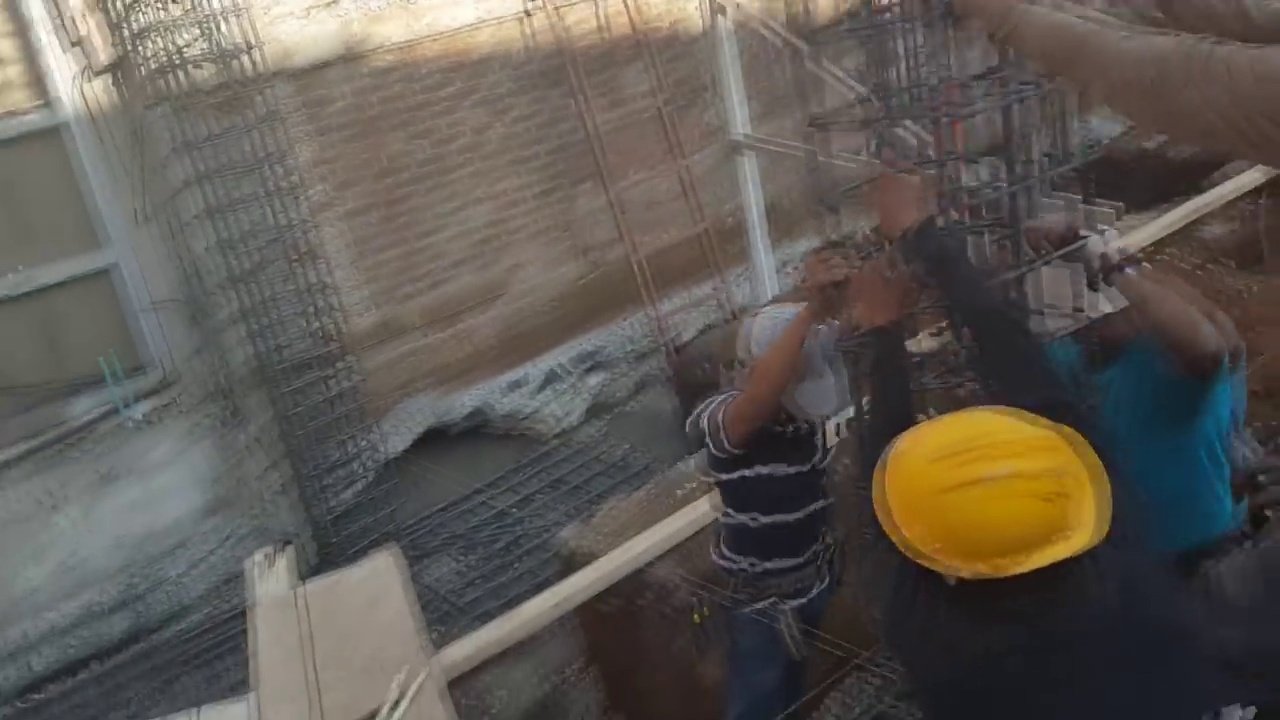helmet: (869, 404, 1111, 580)
helmet-off: (1013, 223, 1166, 378), (748, 296, 849, 426)
person: (858, 203, 1279, 714), (678, 259, 912, 718)
